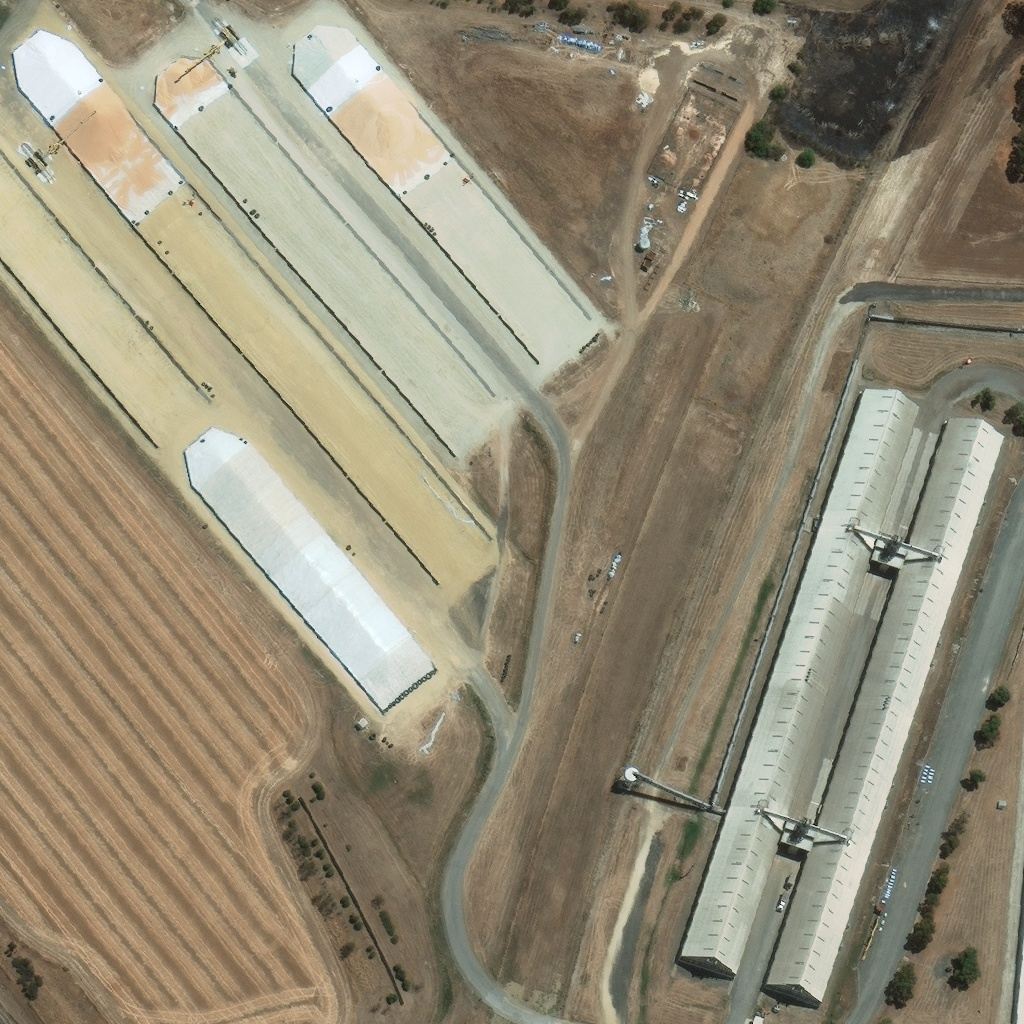0 no-damage: (680, 388, 921, 977), (766, 418, 1006, 1005), (638, 239, 651, 250)
4 un-classified: (753, 1015, 766, 1023), (357, 721, 367, 730)
